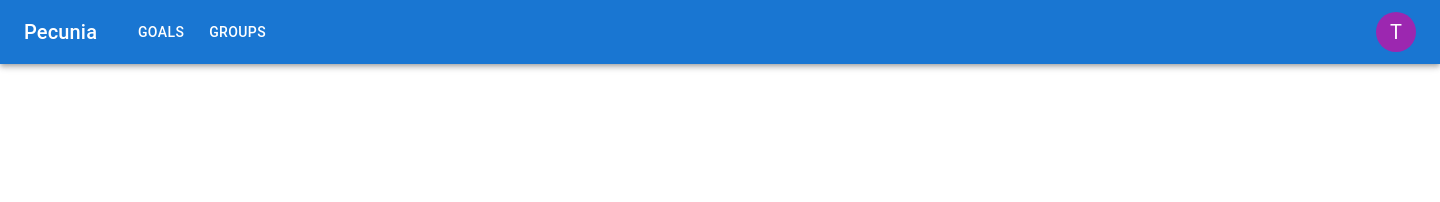
Navbar › shows user menu on avatar click
Click the button at (1396, 32), box [1376,12,1416,52]
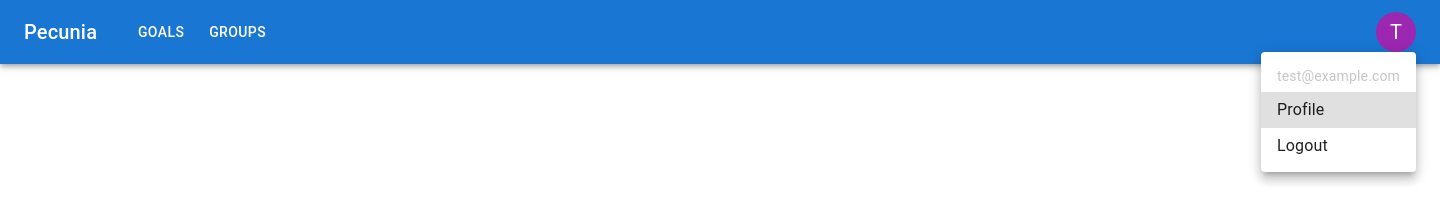
Expected: the text "test@example.com" is shown, [1277,66,1400,86]
Expected: the menu item "Profile" is shown, [1261,92,1416,128]
Expected: the menu item "Logout" is shown, [1277,136,1328,155]
